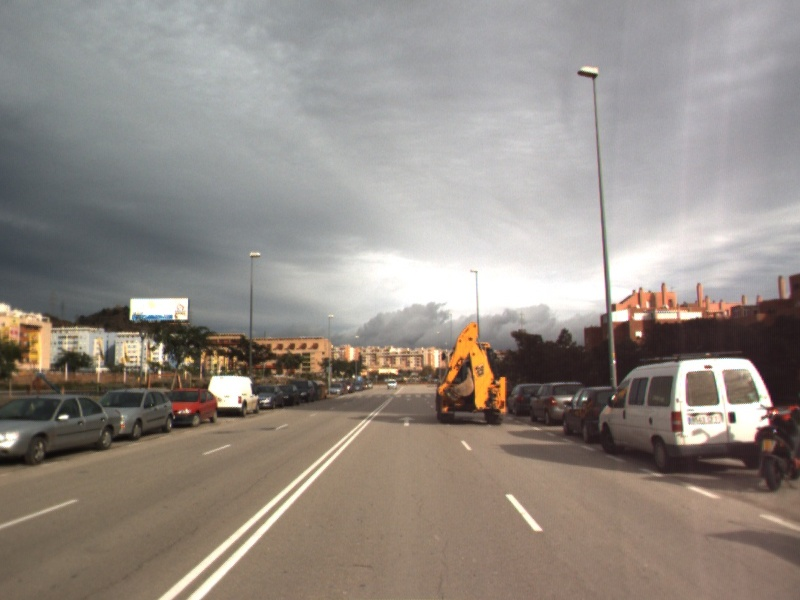STRAIGHT: (397, 414, 418, 428)
